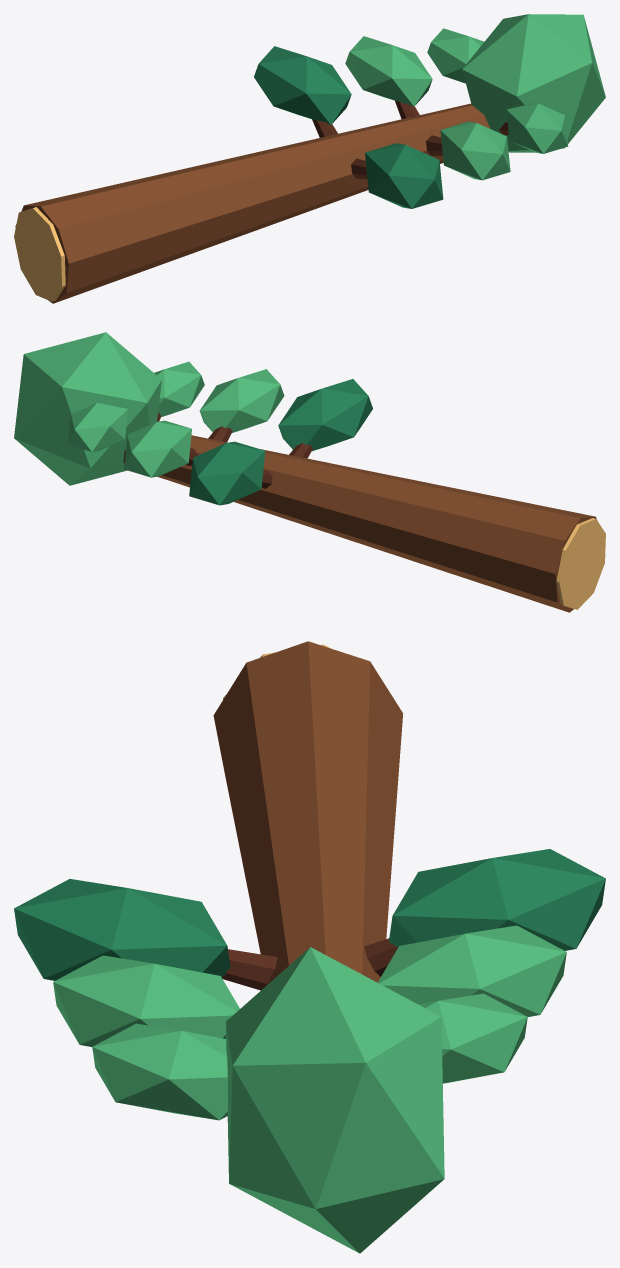
The model's file is harvest_tree_felled_trunk.glb.
The picture shows the model from 3 angles, top to bottom: view 1: azimuth 30°, elevation 25°; view 2: azimuth 150°, elevation 25°; view 3: azimuth 270°, elevation 25°; orthographic projection. The views are drawn at different scales.
Visible parts, largest first — view 1: Felled_Trunk, Felled_Crown, Felled_Needles_1_2, Felled_Needles_1_1, Felled_Needles_2_2, Fresh_Cut_End, Felled_Needles_2_1, Felled_Needles_3_1, Felled_Needles_3_2; view 2: Felled_Trunk, Felled_Crown, Felled_Needles_1_1, Felled_Needles_1_2, Felled_Needles_2_1, Fresh_Cut_End, Felled_Needles_2_2, Felled_Needles_3_2, Felled_Needles_3_1; view 3: Felled_Crown, Felled_Trunk, Felled_Needles_1_2, Felled_Needles_1_1, Felled_Needles_2_1, Felled_Needles_2_2, Felled_Needles_3_1, Felled_Needles_3_2, Felled_Branch_1_1.
Boxes of the visible parts, <box> form: Felled_Trunk: <box>15,103,489,303</box>; Felled_Crown: <box>462,14,605,152</box>; Felled_Needles_1_2: <box>254,46,351,124</box>; Felled_Needles_1_1: <box>365,143,443,208</box>; Felled_Needles_2_2: <box>345,36,432,106</box>; Fresh_Cut_End: <box>14,207,65,301</box>; Felled_Needles_2_1: <box>440,121,510,180</box>; Felled_Needles_3_1: <box>506,102,568,153</box>; Felled_Needles_3_2: <box>427,28,483,83</box>; Felled_Trunk: <box>123,435,596,612</box>; Felled_Crown: <box>14,332,161,485</box>; Felled_Needles_1_1: <box>278,379,372,451</box>; Felled_Needles_1_2: <box>189,441,265,505</box>; Felled_Needles_2_1: <box>199,369,284,432</box>; Fresh_Cut_End: <box>556,518,605,609</box>; Felled_Needles_2_2: <box>124,420,191,477</box>; Felled_Needles_3_2: <box>68,402,127,451</box>; Felled_Needles_3_1: <box>154,361,204,416</box>; Felled_Crown: <box>226,947,444,1253</box>; Felled_Trunk: <box>213,641,403,984</box>; Felled_Needles_1_2: <box>389,849,605,950</box>; Felled_Needles_1_1: <box>14,879,230,980</box>; Felled_Needles_2_1: <box>53,955,239,1046</box>; Felled_Needles_2_2: <box>377,925,566,1016</box>; Felled_Needles_3_1: <box>92,1023,227,1120</box>; Felled_Needles_3_2: <box>419,993,527,1083</box>; Felled_Branch_1_1: <box>222,949,277,990</box>.
Bounding box in the file's own units: 5.44 × 1.5 × 2.64.
